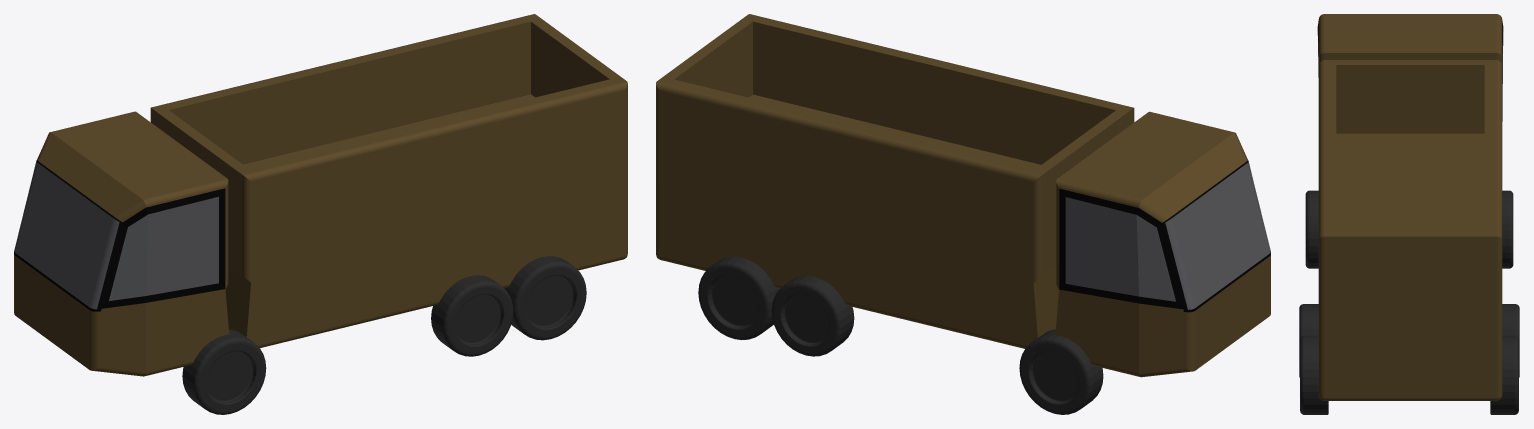
File: van.fbx
The picture shows the model from 3 angles, left to right: view 1: azimuth 30°, elevation 25°; view 2: azimuth 150°, elevation 25°; view 3: azimuth 270°, elevation 25°; orthographic projection. The views are drawn at different scales.
Parts seen in each view (by area): view 1: Object; view 2: Object; view 3: Object.
Part boxes in pixels (box(x1,y1,x2,y2)): Object: box(14, 14, 627, 414); Object: box(656, 14, 1270, 414); Object: box(1299, 14, 1519, 414).
Size of the model in its own units: 3788 by 1563 by 1451.
